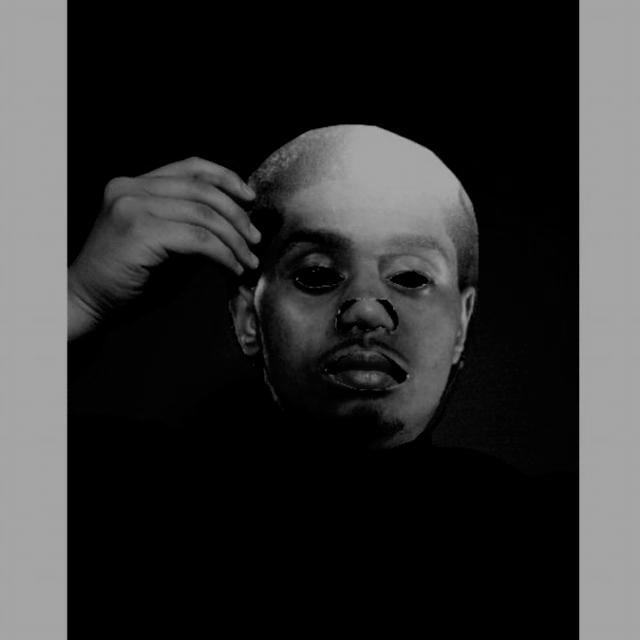fake: (218, 120, 480, 458)
